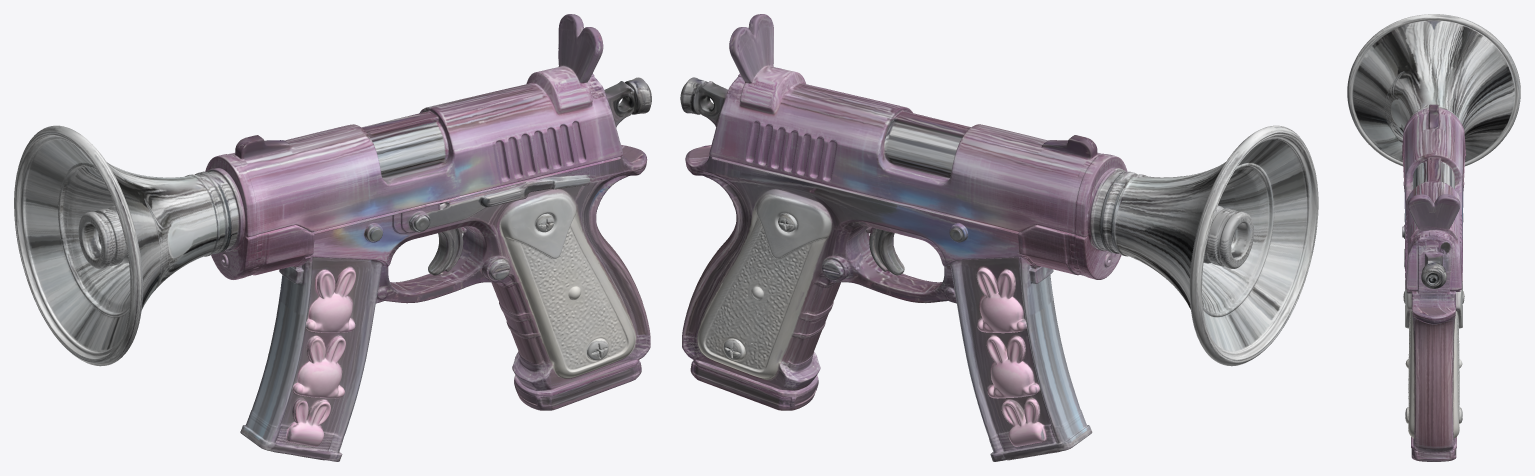
The model's file is rabbitX.glb.
3 renders of one model, left to right at view 1: azimuth 30°, elevation 25°; view 2: azimuth 150°, elevation 25°; view 3: azimuth 270°, elevation 25°, orthographic. The views are drawn at different scales.
Visible parts, largest first — view 1: node_0; view 2: node_0; view 3: node_0.
Part boxes in pixels (x1,y1,x2,y2): node_0: (14,14,651,461); node_0: (680,14,1318,461); node_0: (1347,14,1520,461).
Size of the model in its own units: 1.02 by 0.6461 by 0.3794.
Materials: 1 (1 with a texture image).
